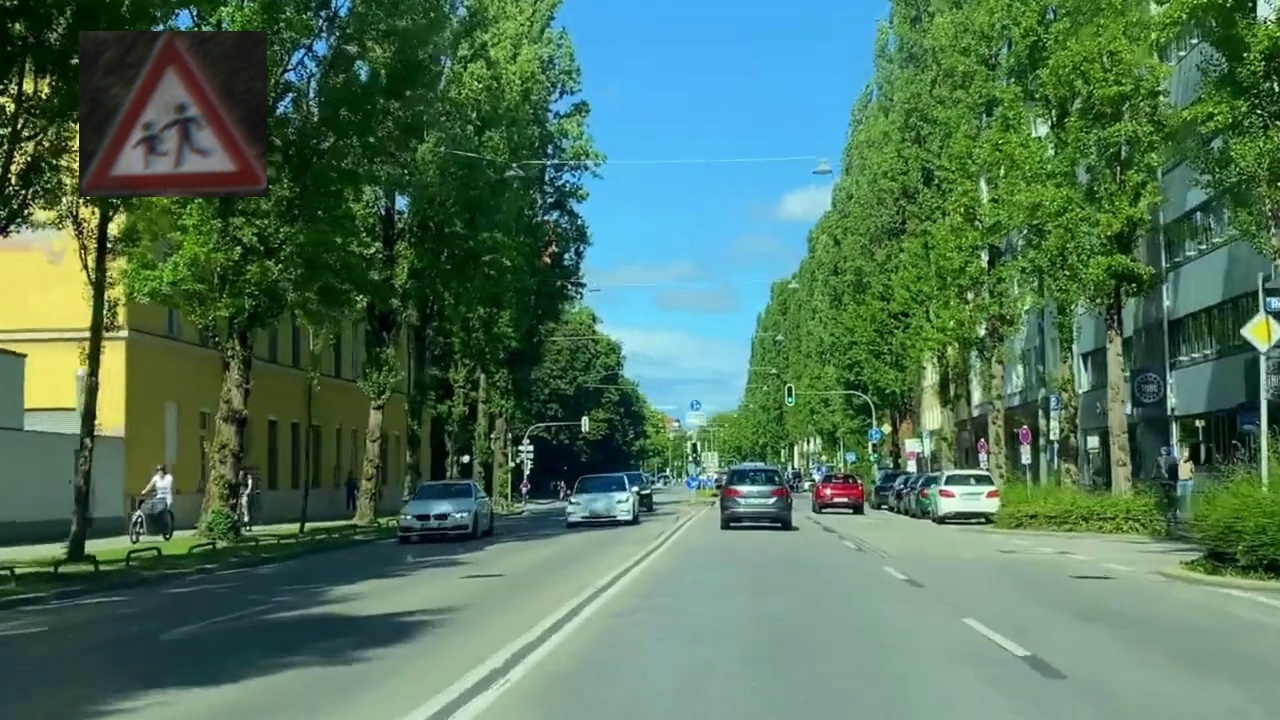Children: (79, 31, 267, 197)
